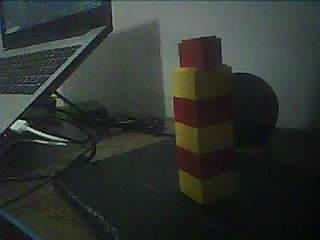lego: (172, 35, 236, 206)
